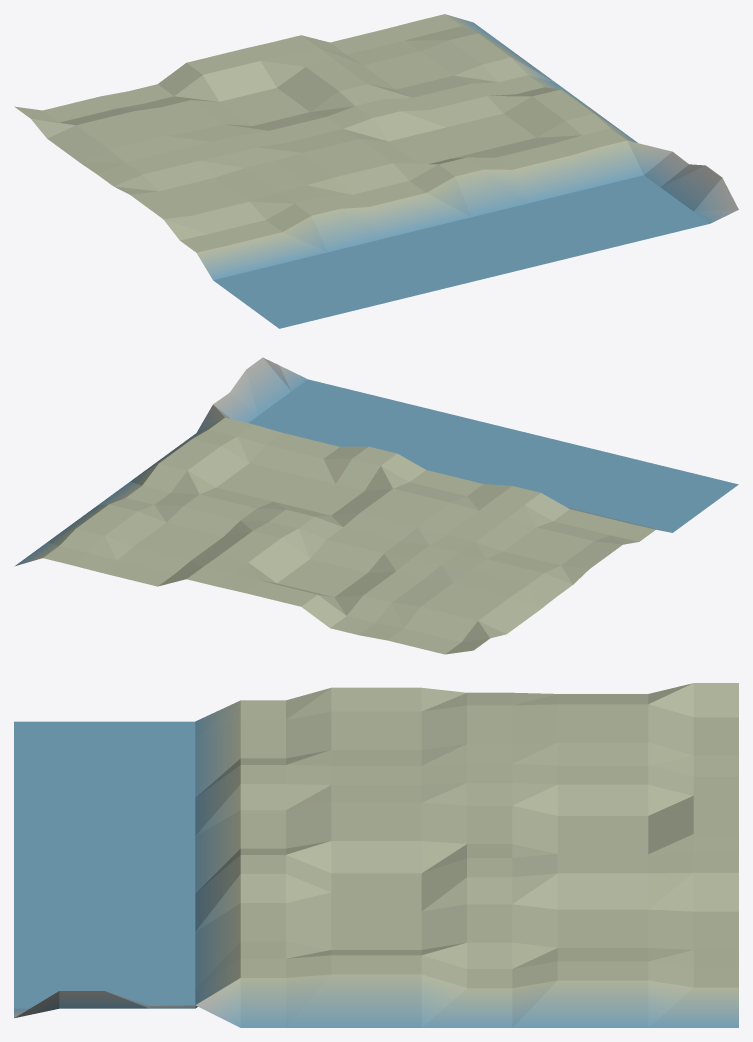
3 views of the same model, one above another, from view 1: azimuth 30°, elevation 25°; view 2: azimuth 150°, elevation 25°; view 3: azimuth 270°, elevation 25° (orthographic). The views are drawn at different scales.
Bounding box in the file's own units: 32 × 1.99 × 32.
